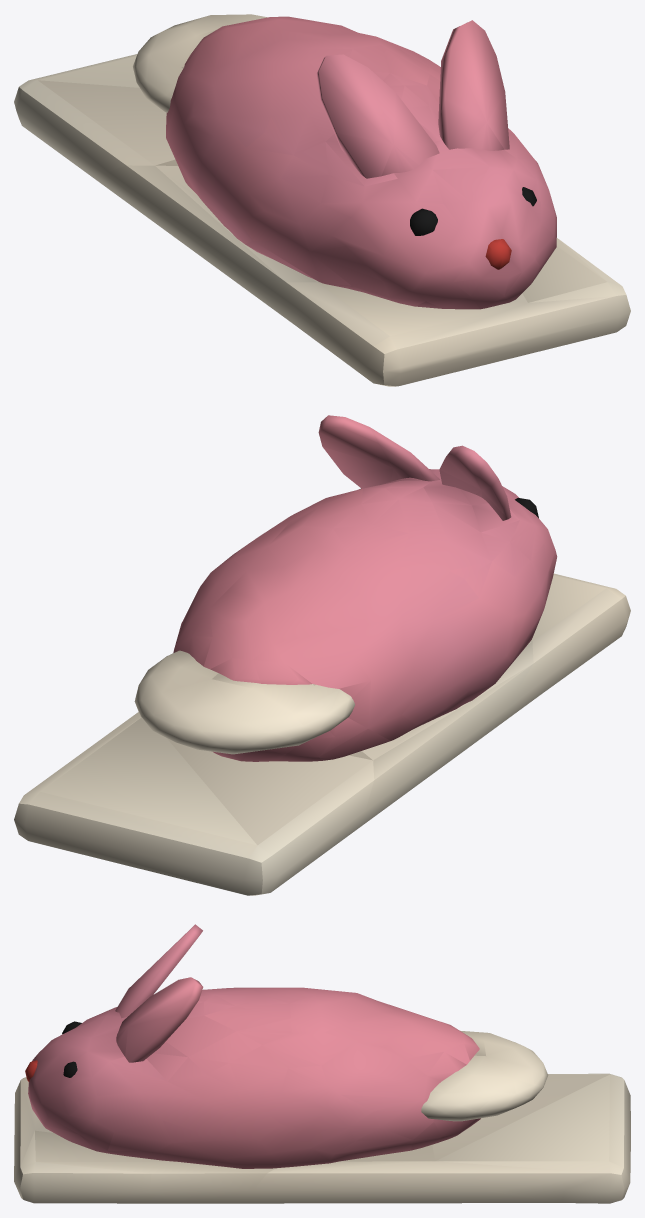
File: den_slipper_lod1.glb
The picture shows the model from 3 angles, top to bottom: view 1: azimuth 30°, elevation 25°; view 2: azimuth 150°, elevation 25°; view 3: azimuth 270°, elevation 25°; orthographic projection. The views are drawn at different scales.
Parts seen in each view (by area): view 1: den_slipper.001; view 2: den_slipper.001; view 3: den_slipper.001.
Part boxes in pixels (x1,y1,x2,y2): den_slipper.001: (14, 14, 630, 386); den_slipper.001: (14, 415, 630, 895); den_slipper.001: (14, 924, 630, 1203).
Bounding box in the file's own units: 12.29 × 11.06 × 30.07.
